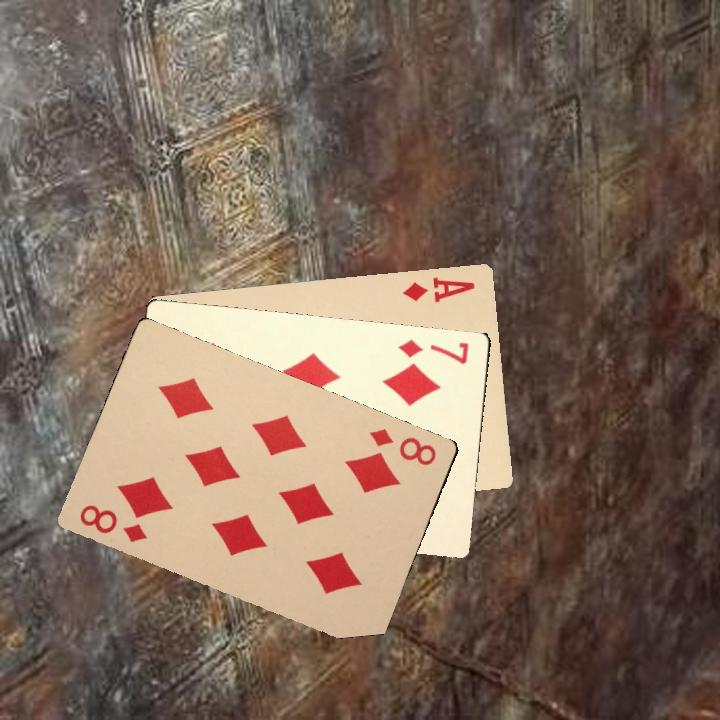7d: (395, 335, 471, 367)
8d: (75, 500, 150, 545), (365, 424, 439, 469)
Ad: (400, 273, 477, 305)
